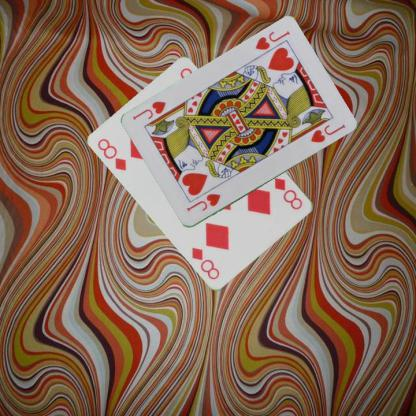8d: (272, 175, 304, 211), (96, 136, 128, 172)
Jh: (252, 29, 291, 52), (184, 191, 222, 213)
